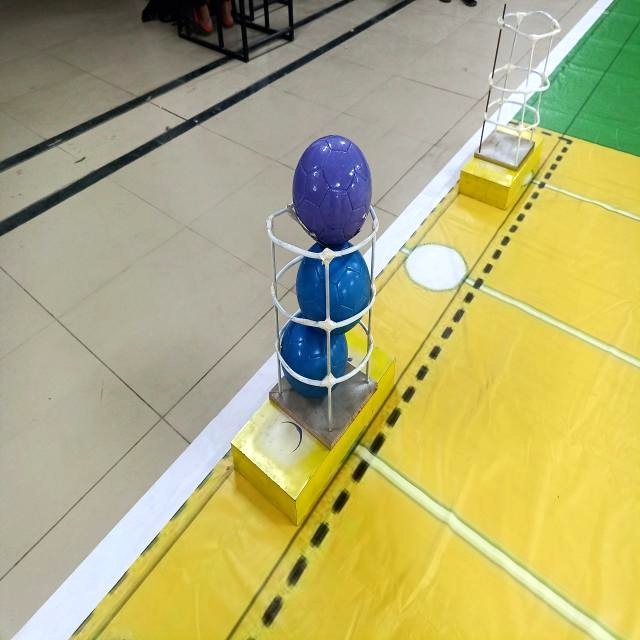blue_ball: (296, 240, 376, 327), (280, 313, 350, 391)
purple_ball: (290, 132, 377, 248)
silo: (255, 190, 388, 463)
